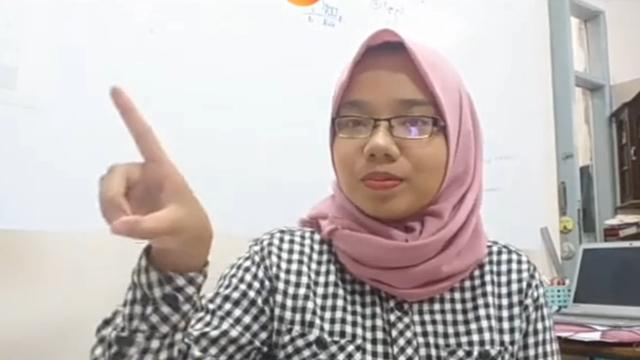D: (94, 87, 216, 251)
